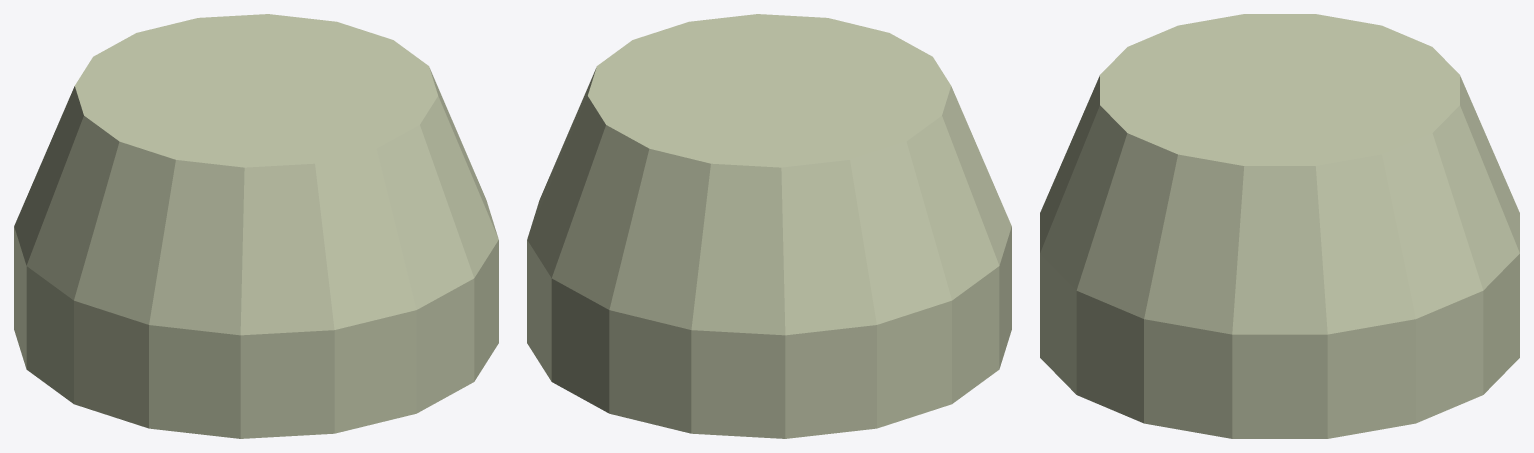
File: Alniyat_NodeSupport_1_Collider.obj
The picture shows the model from 3 angles, left to right: view 1: azimuth 30°, elevation 25°; view 2: azimuth 150°, elevation 25°; view 3: azimuth 270°, elevation 25°; orthographic projection.
Parts seen in each view (by area): view 1: Alniyat_NodeSupport_1_Collider; view 2: Alniyat_NodeSupport_1_Collider; view 3: Alniyat_NodeSupport_1_Collider.
Part boxes in pixels (x1,y1,x2,y2): Alniyat_NodeSupport_1_Collider: (14,14,498,438); Alniyat_NodeSupport_1_Collider: (527,14,1011,438); Alniyat_NodeSupport_1_Collider: (1040,14,1519,438).
Bounding box in the file's own units: 1.25 × 0.7115 × 1.25.
